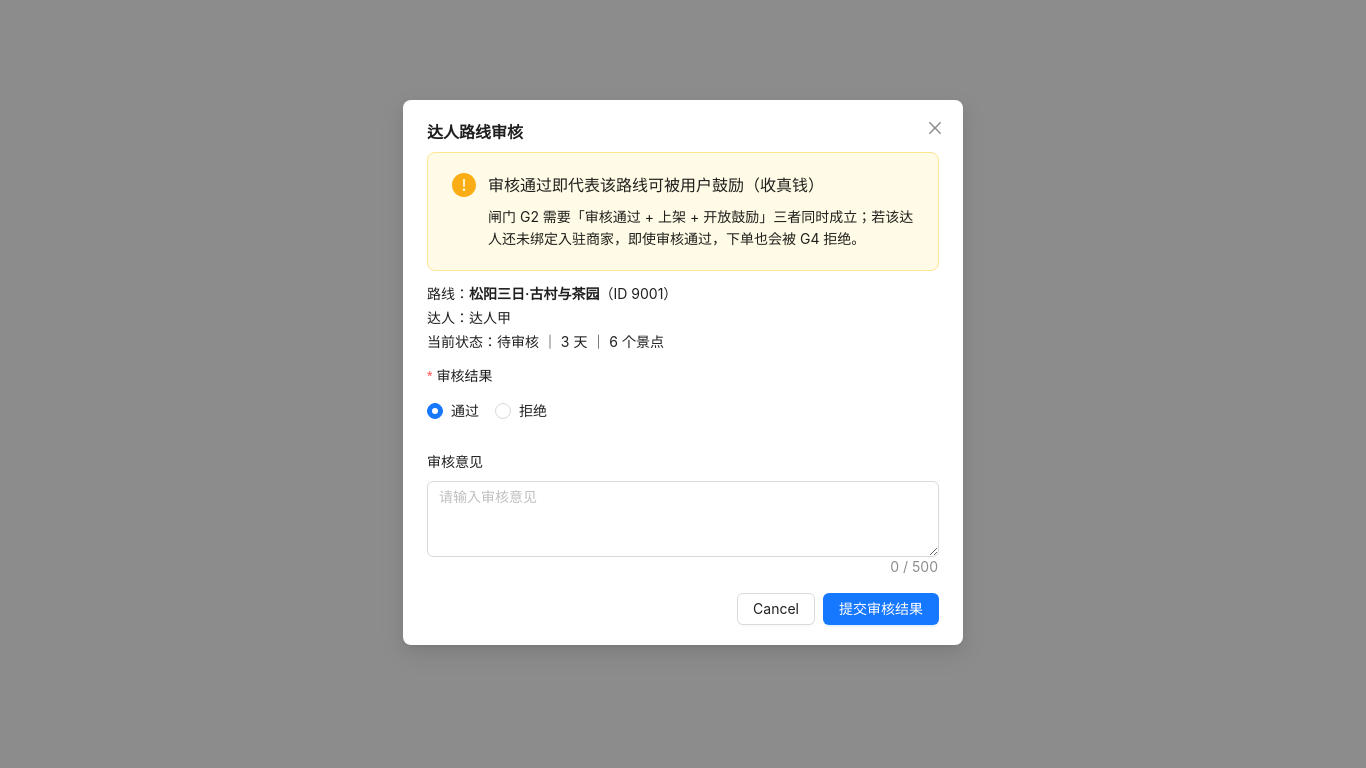
达人路线审核弹窗 · 报错必须显示后端原文 › 后端换一句原文（4103 无权访问该数据）也照样透出，说明不是对 4103 做了硬编码
The width and height of the screenshot is (1366, 768).
Click the button "提交审核结果" at coordinates (881, 609), box [823, 593, 939, 625]
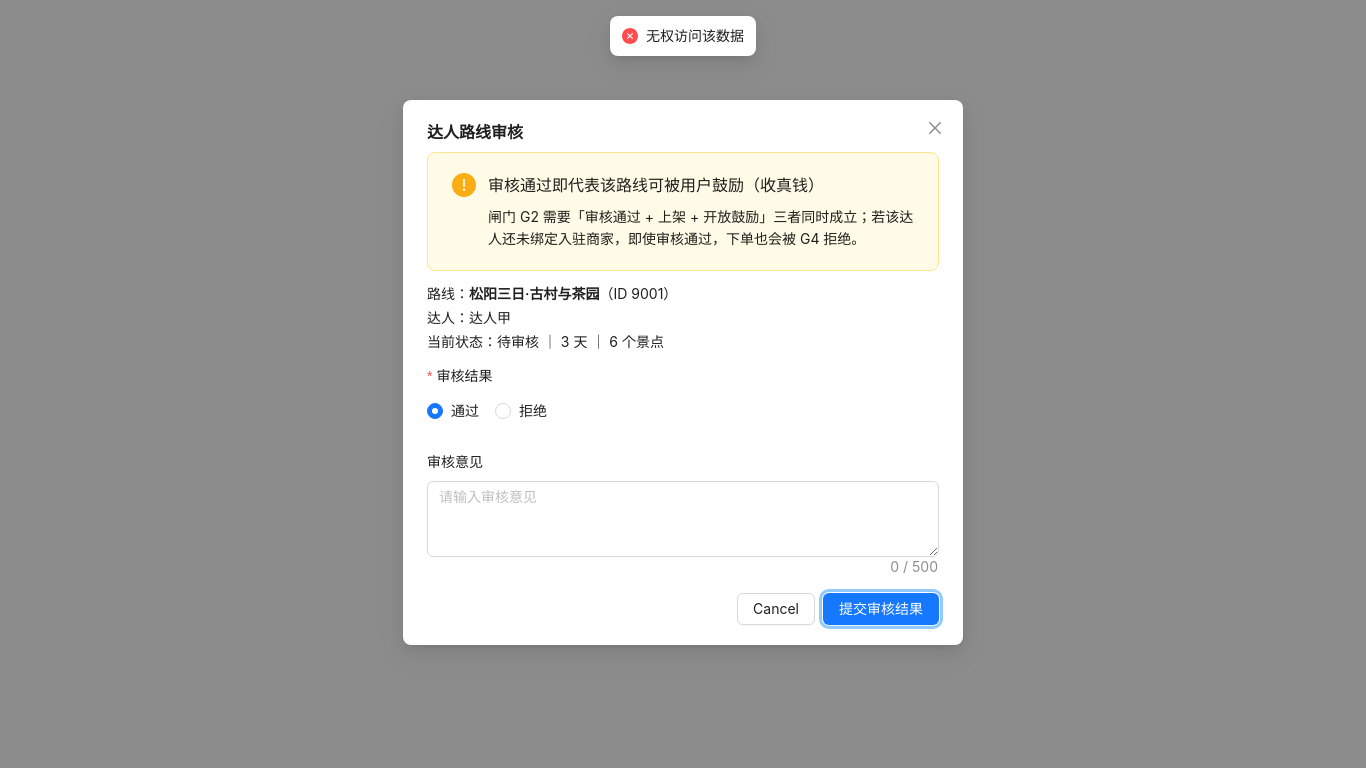
Expected: the text "无权访问该数据" is shown, [646, 25, 744, 47]
